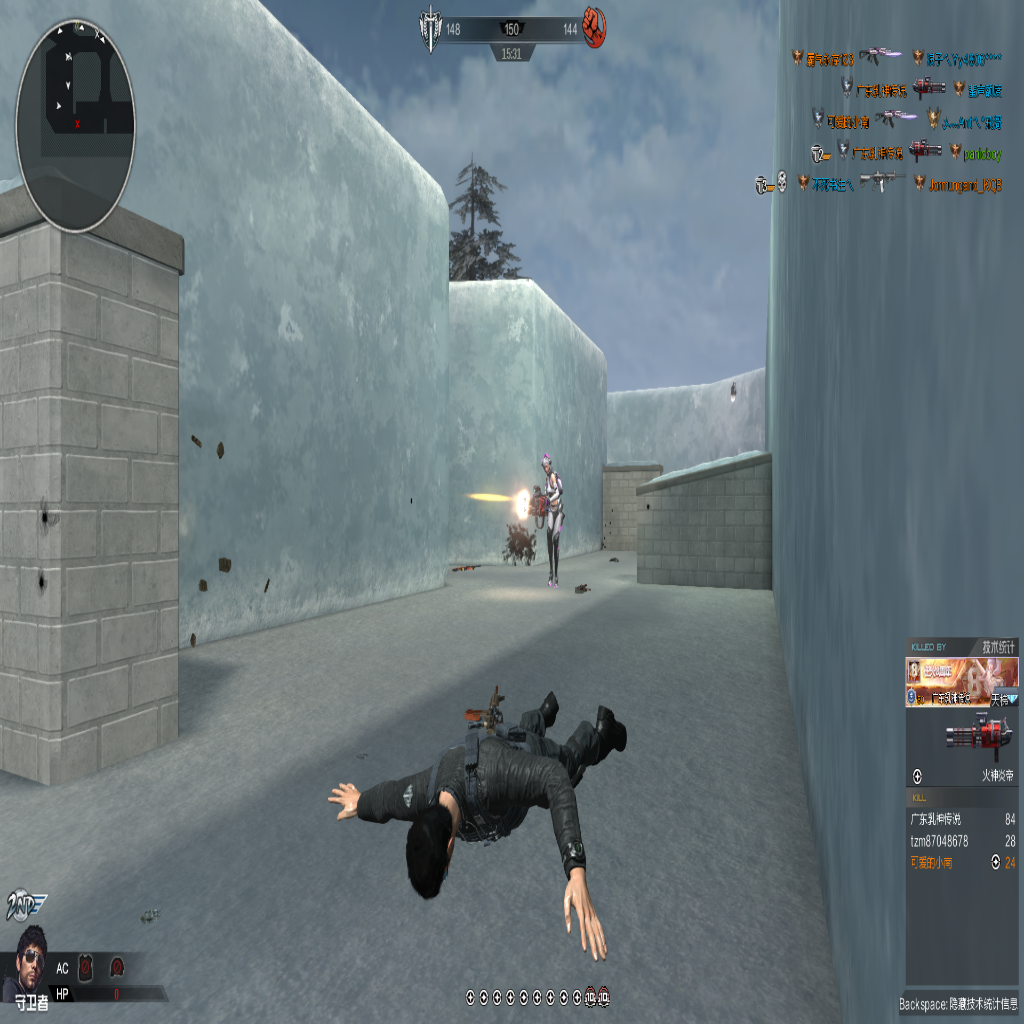tt: (539, 456, 563, 587)
